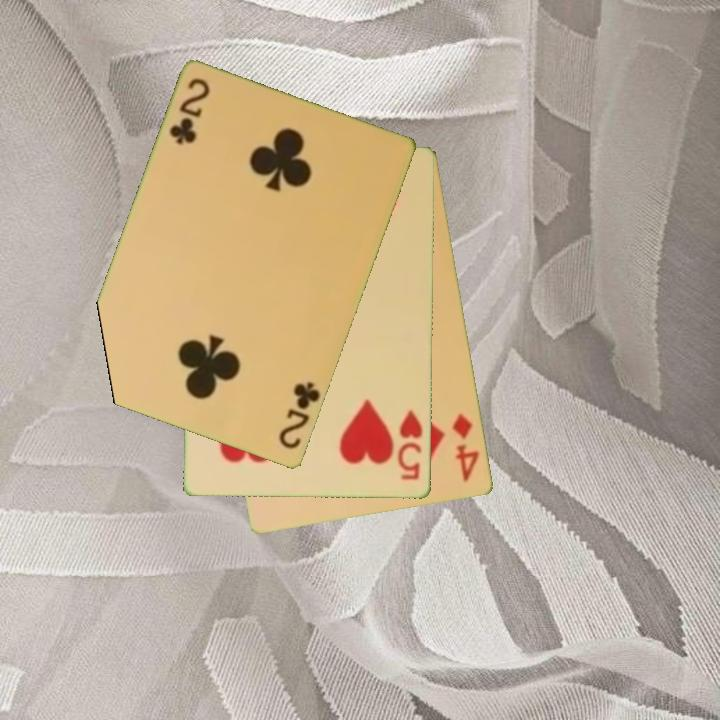2c: (275, 378, 323, 453), (166, 75, 214, 148)
4d: (449, 410, 483, 485)
5h: (394, 406, 425, 483)
